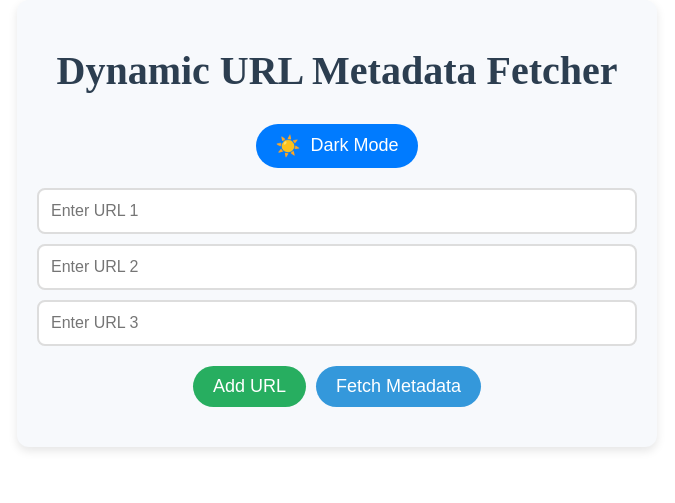
Test: UrlForm Component › displays error message when API request fails
The width and height of the screenshot is (675, 503).
// Fill three URL fields
Type "https://github.com/" into the field with placeholder "Enter URL 1". click: x=337, y=211
box: [37,188,637,234]
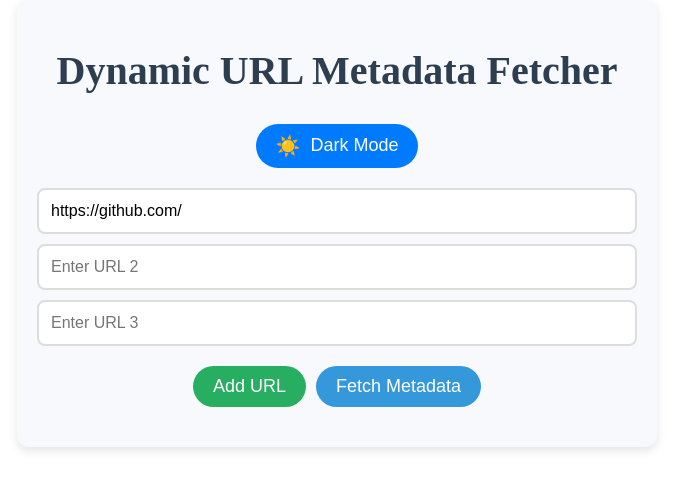
Type "https://github.com/" into the field with placeholder "Enter URL 2". click: x=337, y=267
box: [37,244,637,290]
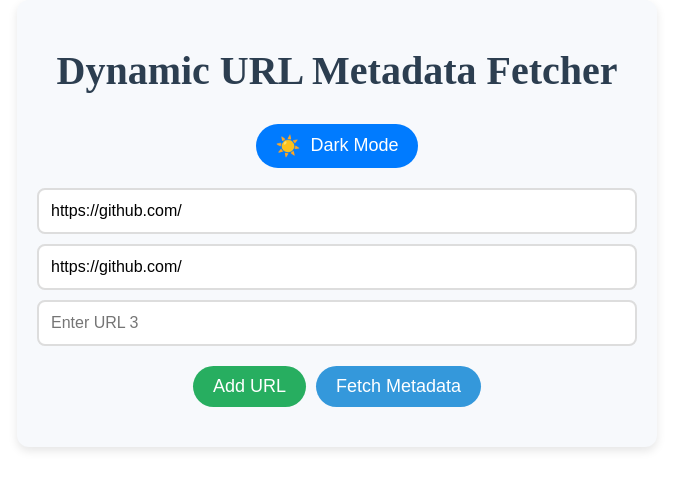
Type "https://github.com/" into the field with placeholder "Enter URL 3". click: x=337, y=323
box: [37,300,637,346]
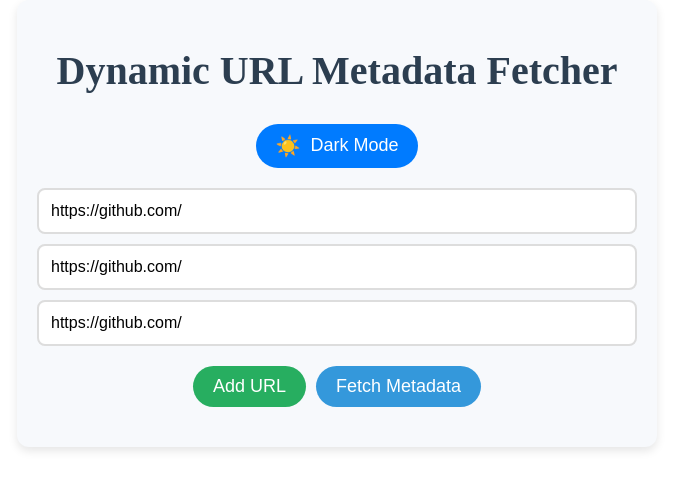
// Submit the form
Click the button "Fetch Metadata". click: x=399, y=386
box: [316,366,481,407]
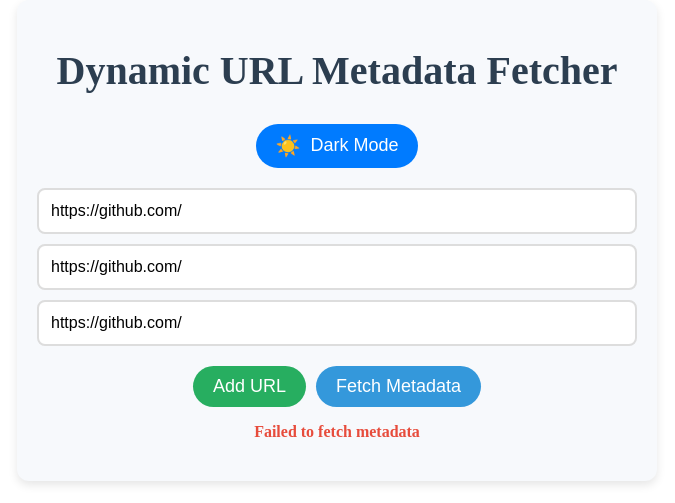
Expected: the text "Failed to fetch metadata" is shown, [254,423,420,440]
